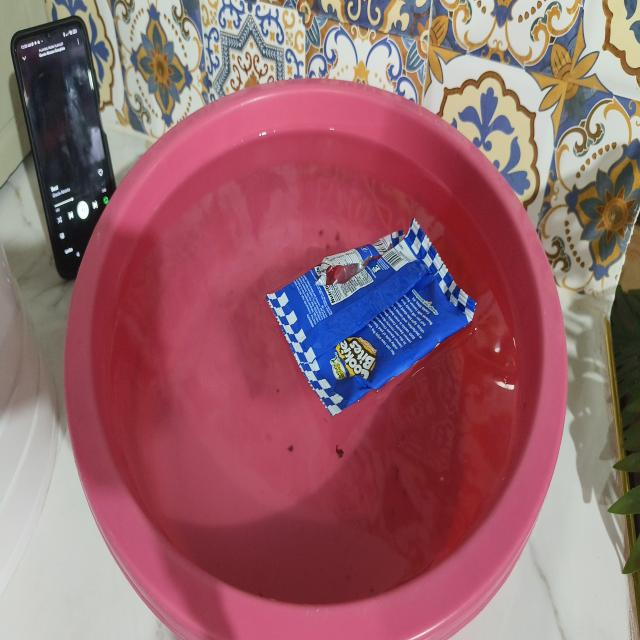Plastic Wrapper: (240, 167, 508, 478)
